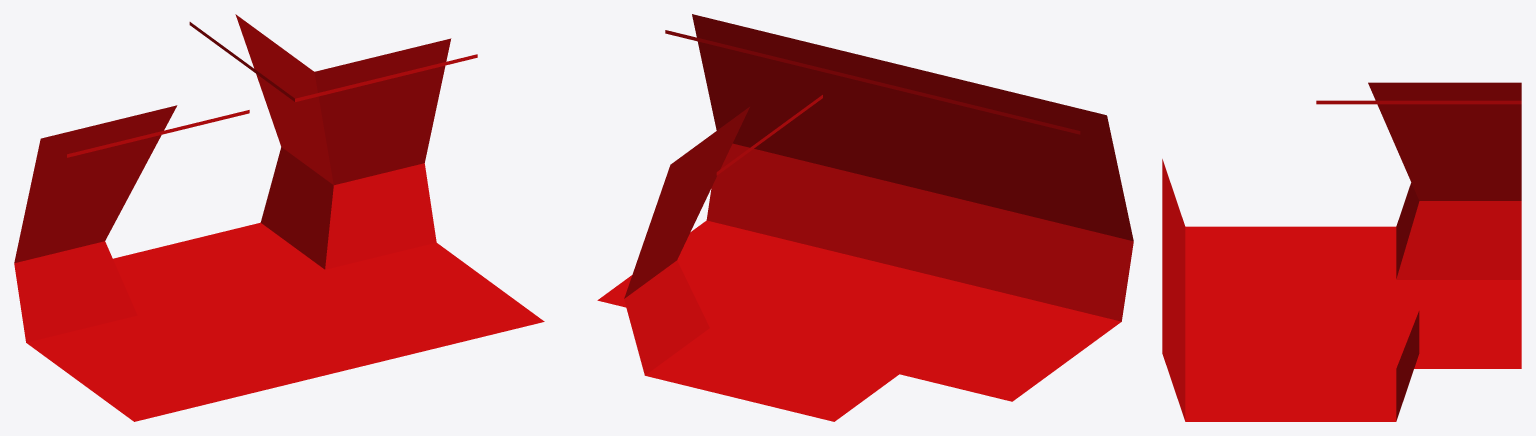
The model's file is corridor_segment.001.glb.
3 views of the same model, side by side, from view 1: azimuth 30°, elevation 25°; view 2: azimuth 150°, elevation 25°; view 3: azimuth 270°, elevation 25° (orthographic). The views are drawn at different scales.
Visible parts, largest first — view 1: Corridor_segment.001; view 2: Corridor_segment.001; view 3: Corridor_segment.001.
Part boxes in pixels (x1,y1,x2,y2): Corridor_segment.001: (14,14,544,421); Corridor_segment.001: (597,14,1133,421); Corridor_segment.001: (1162,82,1521,421).
Size of the model in its own units: 6 by 3.05 by 4.67.
